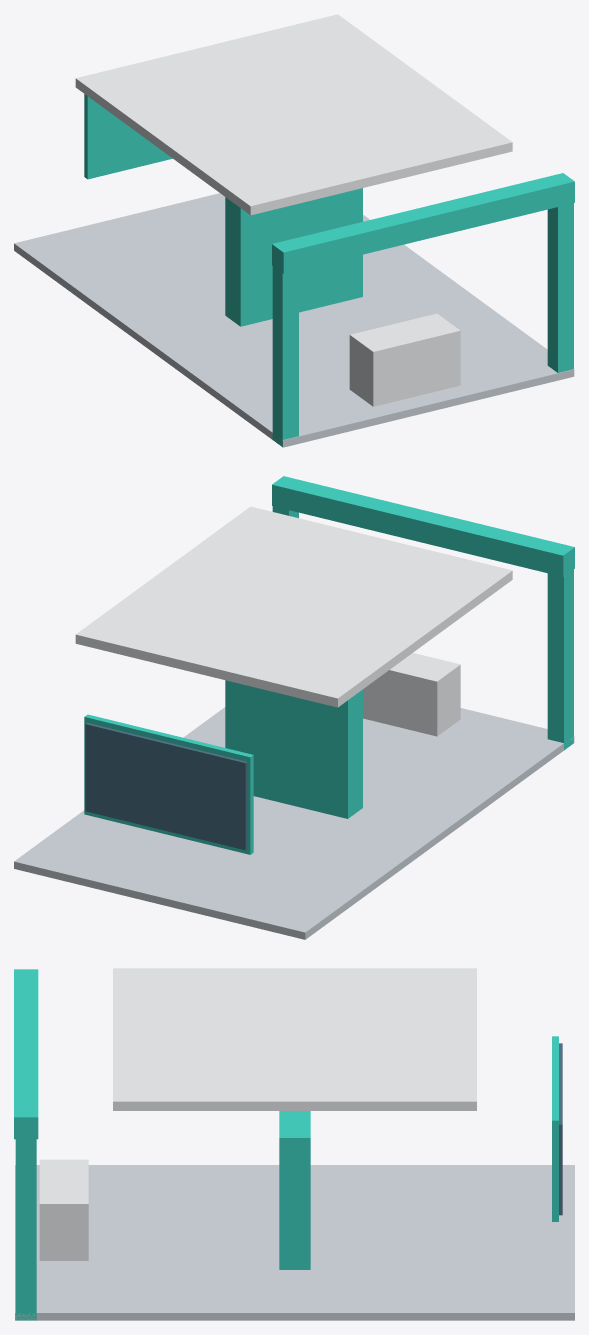
3 renders of one model, top to bottom at view 1: azimuth 30°, elevation 25°; view 2: azimuth 150°, elevation 25°; view 3: azimuth 270°, elevation 25°, orthographic. The views are drawn at different scales.
Visible parts, largest first — view 1: Exhibition Booth Concept; view 2: Exhibition Booth Concept; view 3: Exhibition Booth Concept.
Boxes of the visible parts, bbox=[...] form: Exhibition Booth Concept: bbox=[14, 14, 574, 447]; Exhibition Booth Concept: bbox=[14, 476, 574, 939]; Exhibition Booth Concept: bbox=[14, 968, 574, 1320].
Size of the model in its own units: 5 by 3.34 by 8.01.
